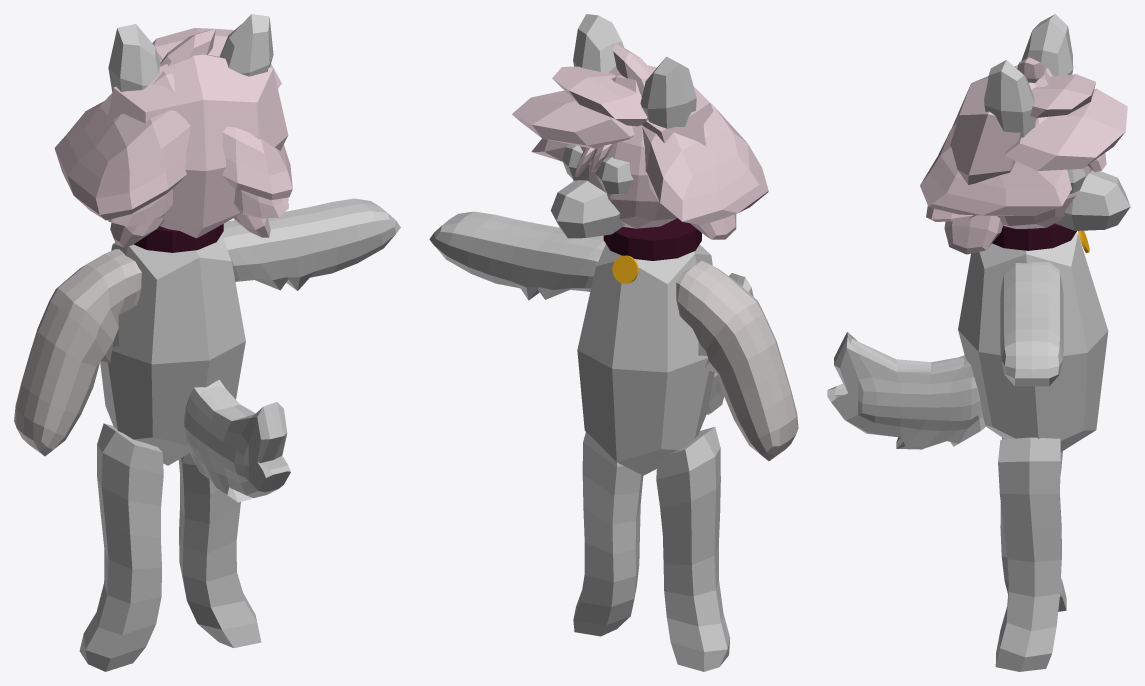
The model's file is homer.obj.
3 views of the same model, side by side, from view 1: azimuth 30°, elevation 25°; view 2: azimuth 150°, elevation 25°; view 3: azimuth 270°, elevation 25° (orthographic). The views are drawn at different scales.
Parts seen in each view (by area): view 1: Cube.010, Cube.007, Cube.003, Cube.006, Cube.023, Cube.005, Cube.004, Plane.001, Cube.018, Cube.012, Cube.011, Cylinder.006 (+5 smaller); view 2: Cube.010, Cube.003, Cube.006, Cube.004, Cube.005, Cube.023, Cube.013, Cube.008, Cube.014, Cube.009, Cube.012, Cylinder.006 (+8 smaller); view 3: Cube.010, Cube.004, Plane.001, Cube.005, Cube.018, Cube.013, Cube.007, Cube.009, Cube.011, Cube.012, Cube.014, Cube.020 (+4 smaller).
Part boxes in pixels (box(x1,y1,x2,y2)): Cube.010: box(100, 235, 245, 465); Cube.007: box(106, 54, 288, 238); Cube.003: box(79, 423, 163, 671); Cube.006: box(14, 249, 141, 456); Cube.023: box(54, 60, 190, 220); Cube.005: box(221, 198, 400, 290); Cube.004: box(178, 453, 261, 647); Plane.001: box(184, 380, 290, 502); Cube.018: box(174, 64, 292, 200); Cube.012: box(108, 24, 160, 92); Cube.011: box(219, 14, 273, 76); Cylinder.006: box(134, 224, 223, 252); Cube.010: box(577, 244, 714, 475); Cube.003: box(656, 427, 730, 671); Cube.006: box(676, 260, 798, 460); Cube.004: box(573, 432, 643, 636); Cube.005: box(429, 211, 605, 300); Cube.023: box(641, 93, 768, 225); Cube.013: box(512, 90, 634, 149); Cube.008: box(573, 125, 677, 228); Cube.014: box(552, 66, 647, 126); Cube.009: box(550, 180, 624, 238); Cube.012: box(640, 56, 696, 128); Cylinder.006: box(603, 218, 701, 260); Cube.010: box(958, 232, 1108, 451); Cube.004: box(995, 437, 1061, 671); Plane.001: box(827, 332, 985, 449); Cube.005: box(1000, 262, 1063, 386); Cube.018: box(920, 70, 1071, 215); Cube.013: box(1005, 88, 1127, 170); Cube.007: box(950, 68, 1036, 184); Cube.009: box(1055, 170, 1130, 230); Cube.011: box(984, 60, 1035, 137); Cube.012: box(1021, 14, 1073, 76); Cube.014: box(1030, 74, 1095, 117); Cube.020: box(944, 215, 1003, 254).
Size of the model in its own units: 2.88 by 4.72 by 2.14.
